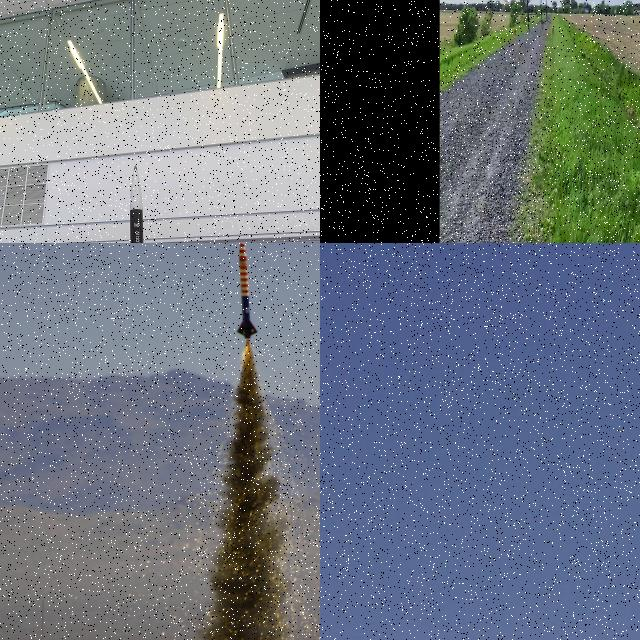Rocket: (235, 243, 258, 339), (527, 0, 530, 21)
